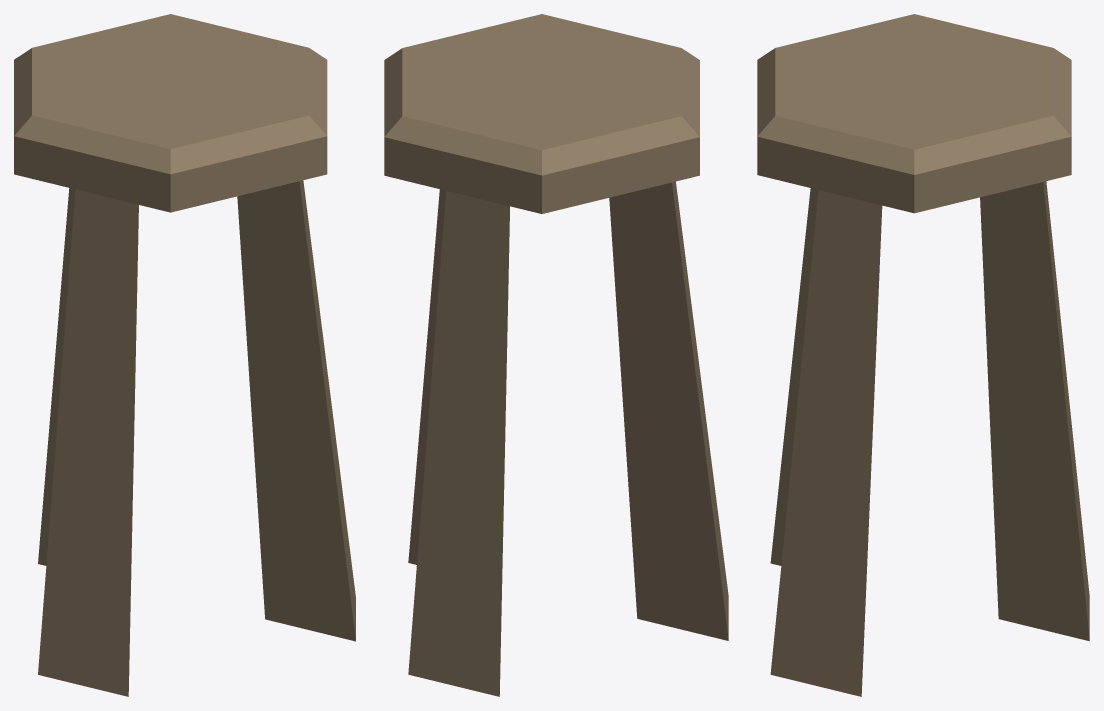
Rendered from BarStool_FBX.fbx.
3 renders of one model, left to right at view 1: azimuth 30°, elevation 25°; view 2: azimuth 150°, elevation 25°; view 3: azimuth 270°, elevation 25°, orthographic.
Parts seen in each view (by area): view 1: pCylinder1; view 2: pCylinder1; view 3: pCylinder1.
Boxes of the visible parts, x1=… form: pCylinder1: x1=14, y1=14, x2=355, y2=696; pCylinder1: x1=384, y1=14, x2=728, y2=696; pCylinder1: x1=757, y1=14, x2=1089, y2=696.
Size of the model in its own units: 52.85 by 84.99 by 47.68.
